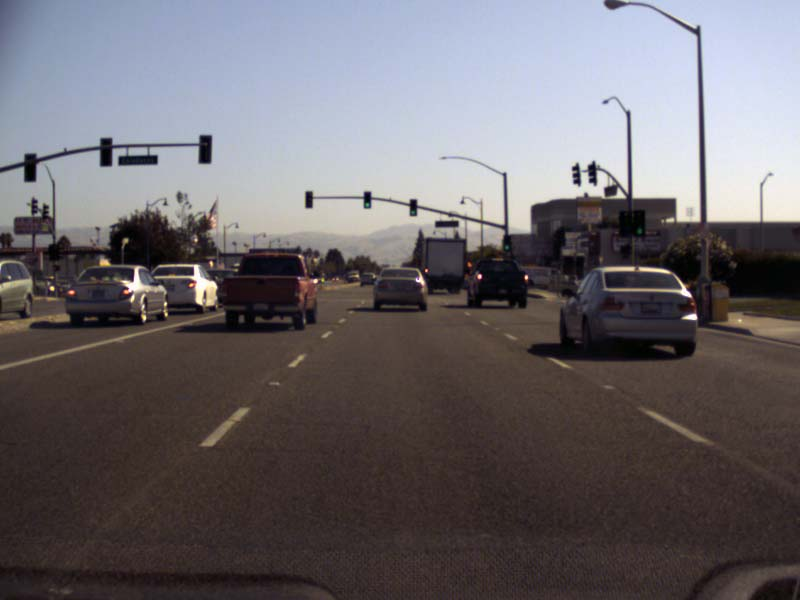Green: (634, 210, 644, 236), (409, 199, 416, 214), (503, 235, 510, 250), (364, 191, 370, 208)
